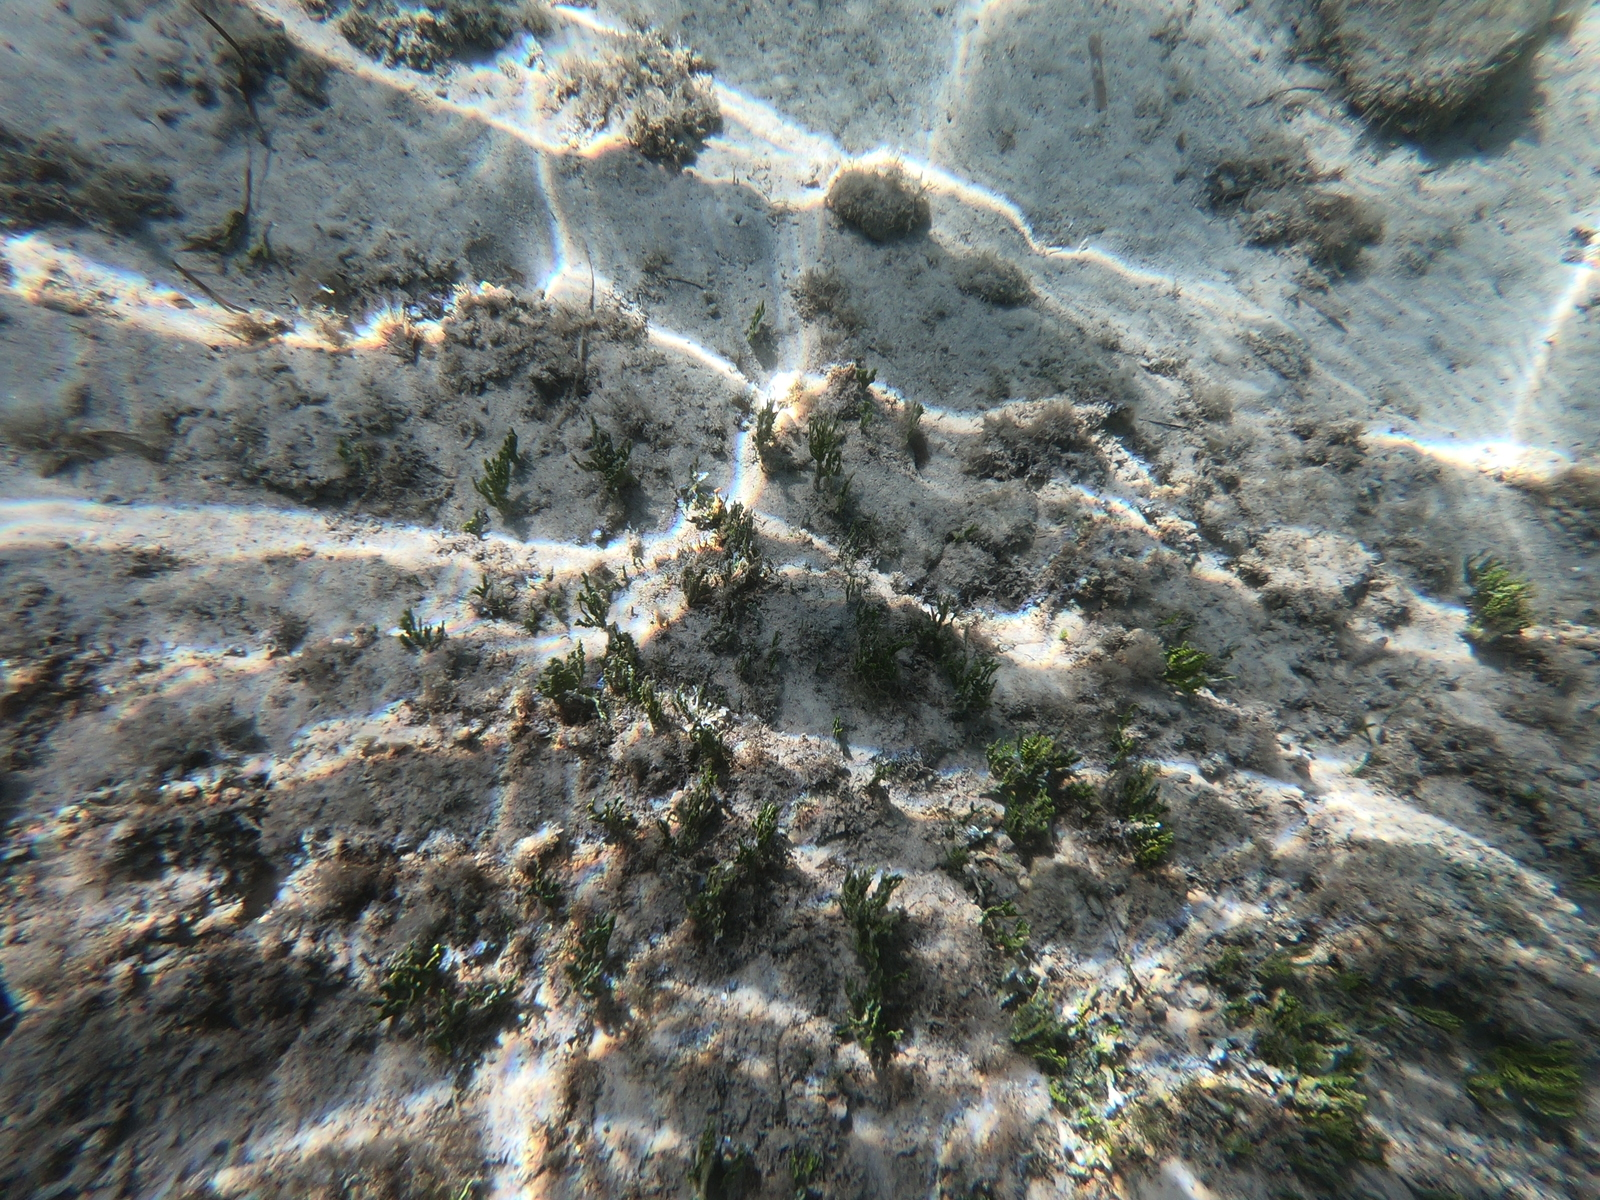halimeda: (842, 866, 908, 957), (1464, 560, 1534, 642), (1466, 1055, 1585, 1103), (377, 942, 442, 1027), (441, 972, 522, 1030), (566, 914, 617, 992), (668, 666, 726, 735), (1371, 1000, 1460, 1041), (839, 1000, 905, 1055), (569, 416, 632, 471), (1294, 1013, 1391, 1047), (1158, 645, 1238, 684), (857, 611, 900, 684), (1288, 1071, 1366, 1111), (1004, 784, 1054, 843), (530, 639, 587, 691), (808, 416, 845, 492), (1112, 763, 1162, 816), (834, 500, 876, 561), (1020, 734, 1082, 771), (1015, 989, 1053, 1050), (1054, 986, 1099, 1037), (695, 868, 729, 935), (603, 626, 637, 691), (399, 610, 447, 653), (585, 798, 637, 836), (1265, 991, 1298, 1049), (727, 503, 758, 557), (574, 572, 603, 630), (984, 739, 1022, 782), (752, 395, 779, 449), (523, 870, 563, 903), (1266, 947, 1306, 979), (692, 493, 729, 527), (753, 800, 782, 845), (1057, 778, 1099, 808), (1136, 829, 1175, 861), (1280, 1045, 1335, 1066), (695, 1123, 713, 1190), (1110, 729, 1136, 771), (746, 297, 769, 347), (1524, 1099, 1579, 1119), (1514, 1039, 1580, 1055), (997, 918, 1031, 949), (920, 616, 945, 657), (1323, 966, 1363, 991), (682, 568, 709, 604), (484, 458, 511, 492), (688, 455, 711, 497), (791, 1151, 819, 1185), (1315, 1116, 1361, 1136), (699, 764, 718, 811), (979, 899, 1018, 920), (1032, 1047, 1068, 1069), (1091, 1030, 1119, 1058), (945, 845, 978, 867), (470, 474, 493, 505), (1217, 949, 1242, 977), (461, 509, 483, 541), (500, 426, 518, 464), (1225, 998, 1251, 1020), (845, 574, 866, 601), (469, 575, 491, 599), (1078, 1105, 1102, 1128), (855, 368, 878, 391), (714, 1073, 729, 1107), (910, 400, 923, 431), (527, 605, 540, 634), (498, 914, 515, 937), (549, 597, 566, 621), (656, 818, 673, 842), (1048, 1082, 1065, 1105), (796, 619, 808, 643), (529, 982, 538, 1012), (831, 716, 843, 739), (771, 629, 782, 650), (859, 410, 872, 429), (738, 695, 746, 718), (621, 563, 629, 584), (787, 579, 796, 594), (1058, 626, 1067, 640), (631, 603, 634, 618)
